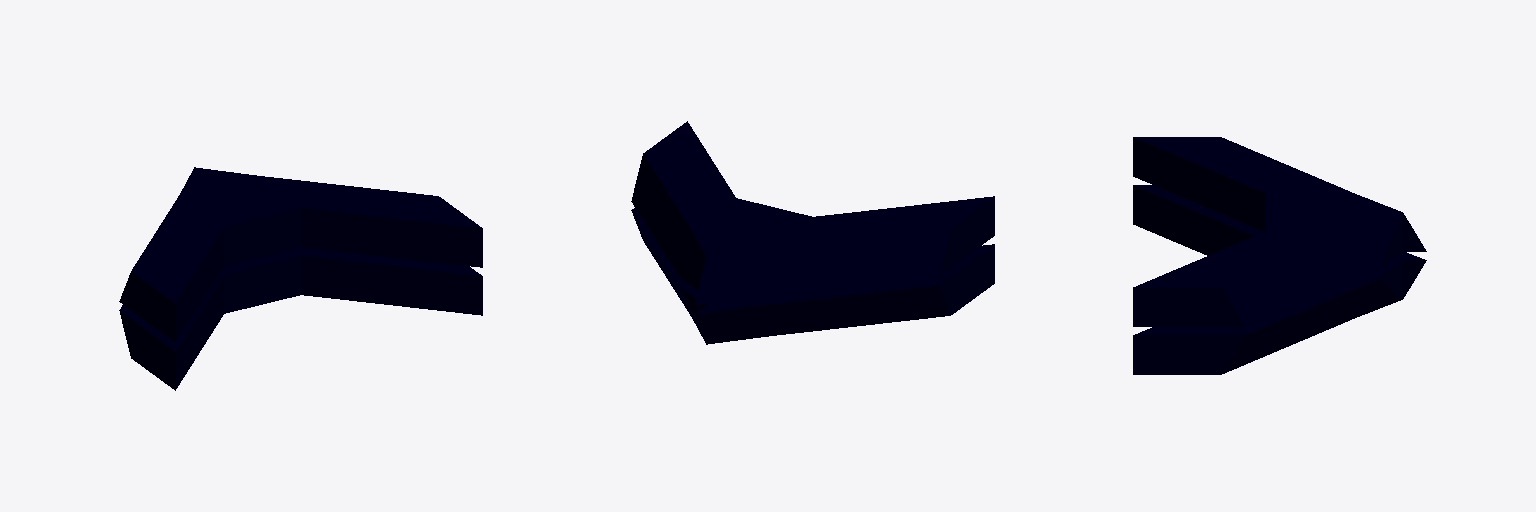
File: deflingrHead.obj
3 views of the same model, side by side, from view 1: azimuth 30°, elevation 25°; view 2: azimuth 150°, elevation 25°; view 3: azimuth 270°, elevation 25° (orthographic).
Visible parts, largest first — view 1: Plane.005_Plane.006; view 2: Plane.005_Plane.006; view 3: Plane.005_Plane.006.
Part boxes in pixels (bbox=[...]): Plane.005_Plane.006: bbox=[119, 167, 482, 390]; Plane.005_Plane.006: bbox=[631, 121, 994, 344]; Plane.005_Plane.006: bbox=[1133, 137, 1426, 374].
Bounding box in the file's own units: 0.8 × 0.2163 × 0.6612.